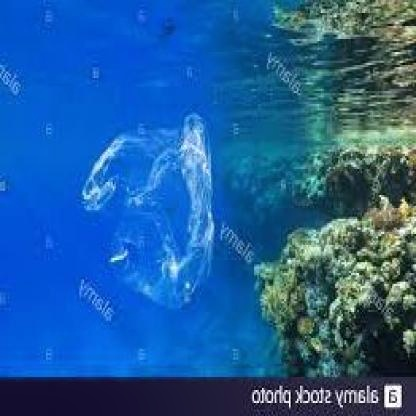pbag: (81, 110, 216, 310)
